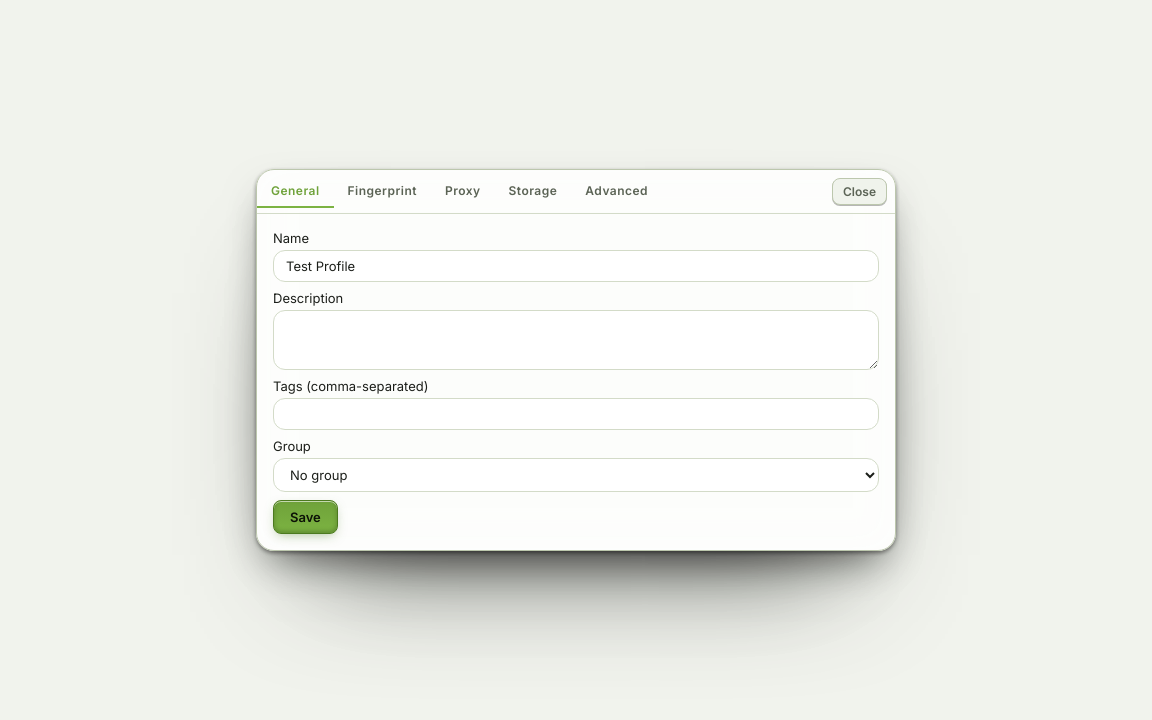
ProfileEditorModal — per-tab unsaved-changes marker › editing the Name field marks only the General tab dirty, not Proxy
The image size is (1152, 720).
Replace the text in the field labelled "Name" with "Renamed Profile" at {"x": 576, "y": 266}, box 273,250 -> 879,282
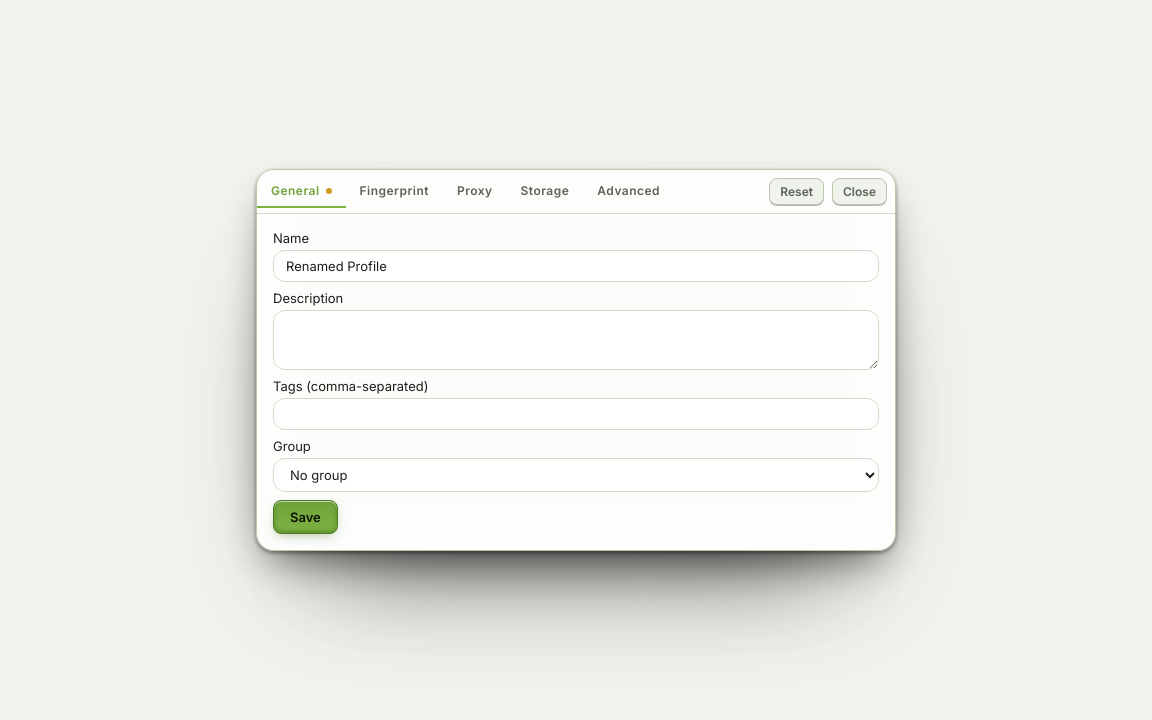
Check: the element with class "tab-dirty-dot" is shown, box 326,188 -> 332,194
